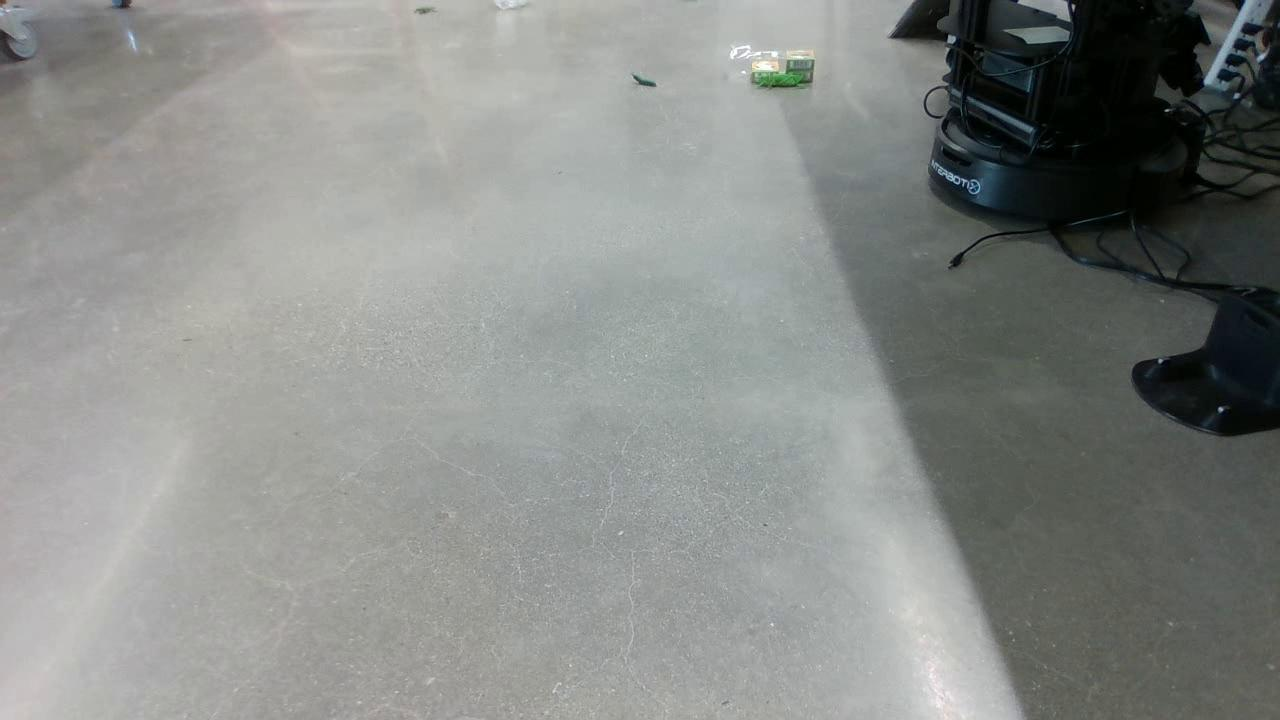grasshopper: (749, 67, 806, 90)
